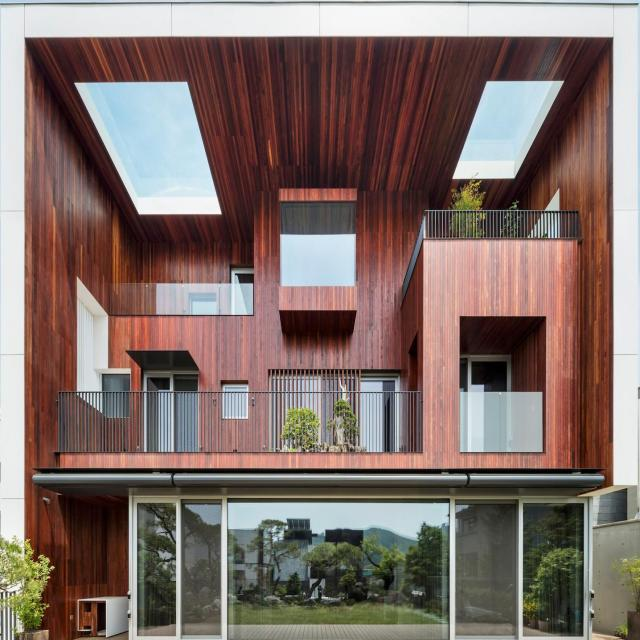door: (454, 497, 594, 638), (129, 496, 231, 639)
railing: (60, 392, 422, 456), (460, 393, 545, 451), (110, 282, 254, 315), (427, 212, 581, 238)
window: (128, 495, 593, 639), (283, 205, 354, 289), (459, 356, 510, 394), (147, 375, 197, 390), (103, 374, 132, 392)
